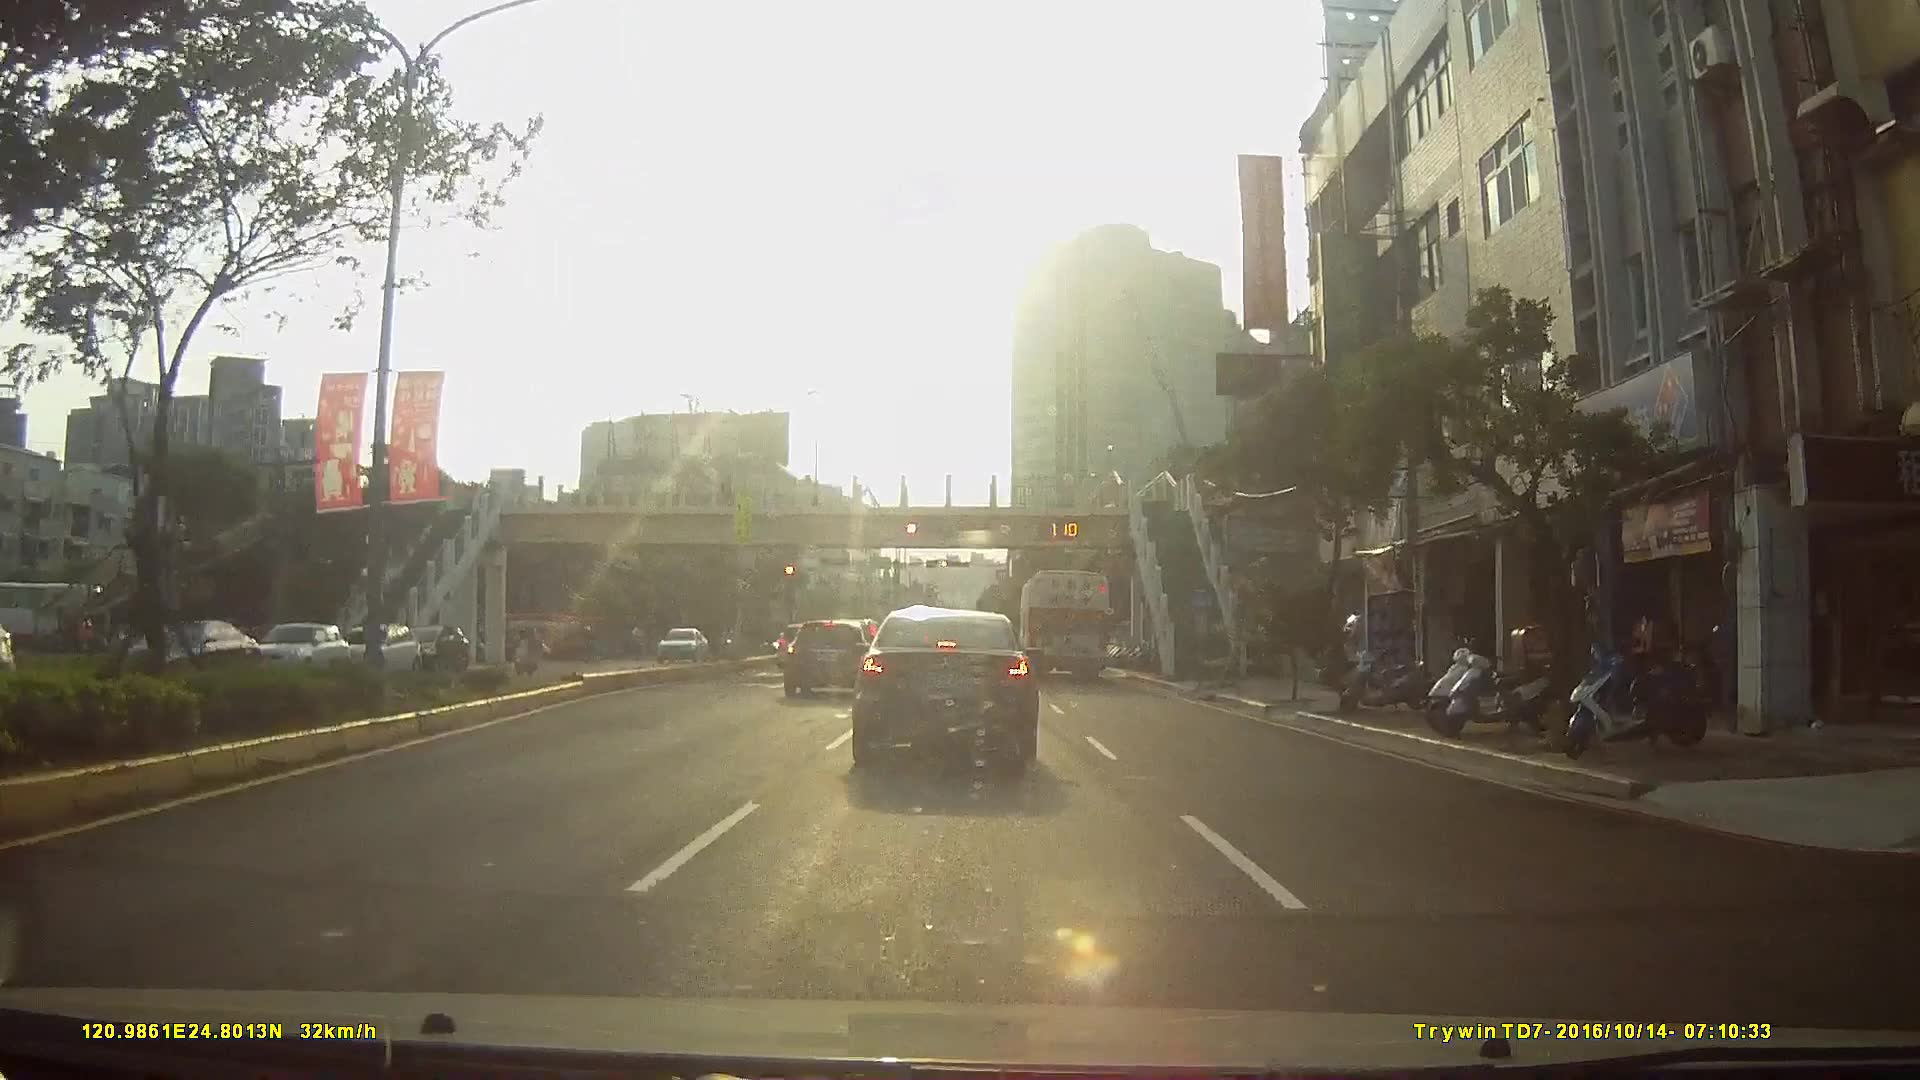rider: (512, 622, 542, 679)
vehicle: (850, 604, 1042, 764), (1018, 568, 1115, 682), (120, 618, 255, 690), (781, 615, 876, 699), (249, 621, 348, 678), (334, 624, 420, 675), (399, 623, 469, 671), (650, 625, 706, 665)
